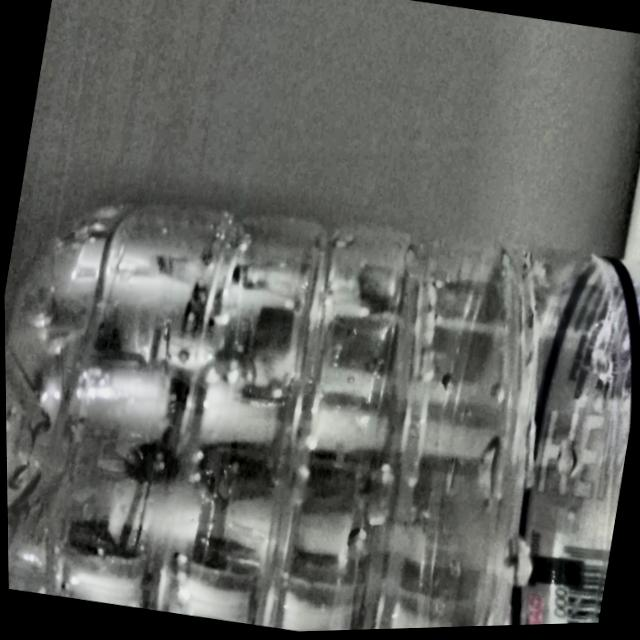plastic: (4, 204, 640, 633)
